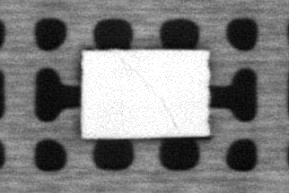DIE_CRACK: (119, 58, 179, 130)
